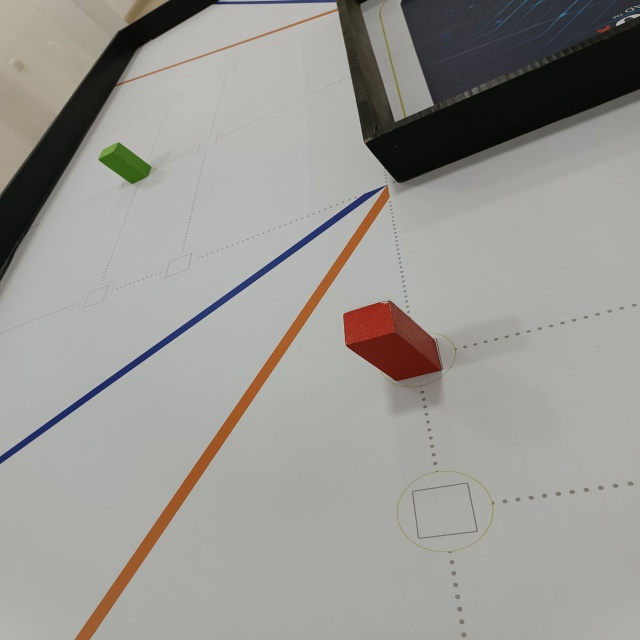blue line: (0, 177, 391, 469)
green rectangular prism: (95, 142, 158, 185)
orange line: (74, 185, 396, 640), (104, 10, 340, 86)
red rectangular prism: (335, 297, 448, 388)
